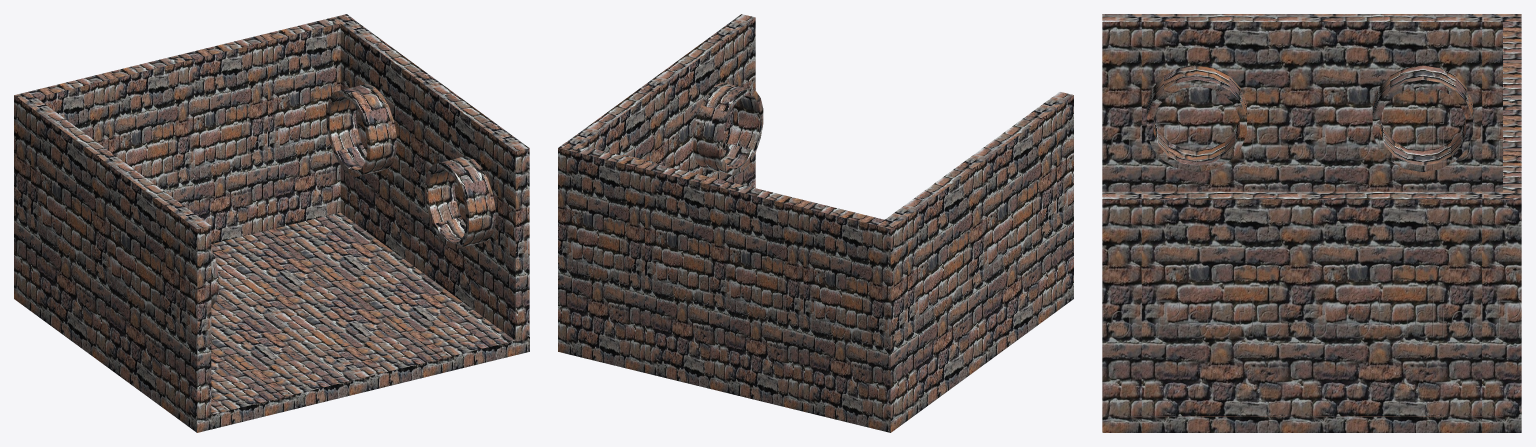
Rendered from AR_Dojo_Test.FBX.
The picture shows the model from 3 angles, left to right: view 1: azimuth 30°, elevation 25°; view 2: azimuth 150°, elevation 25°; view 3: azimuth 270°, elevation 25°; orthographic projection. The views are drawn at different scales.
Parts seen in each view (by area): view 1: Tube002; view 2: Tube002; view 3: Tube002.
Part boxes in pixels (x1,y1,x2,y2): Tube002: (14,14,529,432); Tube002: (558,14,1073,432); Tube002: (1102,14,1521,432).
Size of the model in its own units: 88.72 by 51.94 by 84.59.
Materials: 1 (1 with a texture image).
